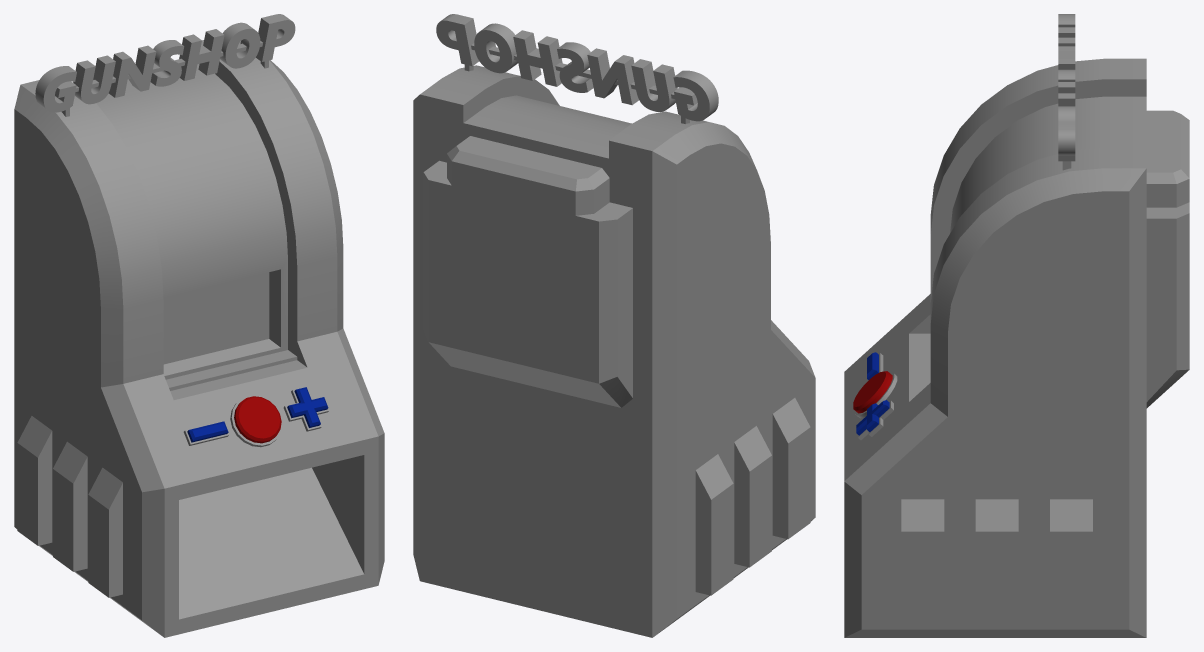
File: GunShop.FBX
3 renders of one model, left to right at view 1: azimuth 30°, elevation 25°; view 2: azimuth 150°, elevation 25°; view 3: azimuth 270°, elevation 25°, orthographic. The views are drawn at different scales.
Visible parts, largest first — view 1: GunShop, GunShop_Sign, GunShop_Screen, GunShop_Buy, GunShop_PriceUp, GunShop_PriceDown; view 2: GunShop, GunShop_Sign; view 3: GunShop, GunShop_Sign, GunShop_Buy, GunShop_PriceUp.
Boxes of the visible parts, left/top/right/bottom form: GunShop: left=14, top=40, right=384, bottom=637; GunShop_Sign: left=35, top=14, right=295, bottom=112; GunShop_Screen: left=163, top=272, right=269, bottom=364; GunShop_Buy: left=234, top=396, right=281, bottom=443; GunShop_PriceUp: left=287, top=387, right=328, bottom=427; GunShop_PriceDown: left=187, top=421, right=228, bottom=442; GunShop: left=413, top=43, right=815, bottom=637; GunShop_Sign: left=436, top=14, right=718, bottom=121; GunShop: left=844, top=58, right=1189, bottom=637; GunShop_Sign: left=1058, top=14, right=1075, bottom=161; GunShop_Buy: left=853, top=371, right=892, bottom=413; GunShop_PriceUp: left=856, top=400, right=889, bottom=435.
Bounding box in the file's own units: 190 × 328 × 200.
